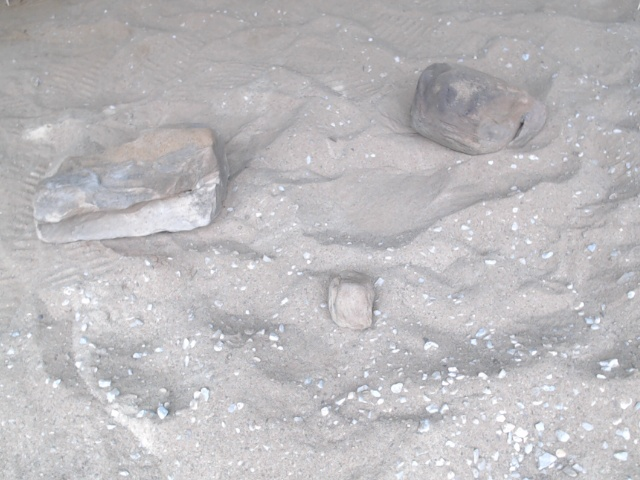rock: (27, 118, 236, 249), (403, 58, 554, 160), (323, 264, 381, 337)
